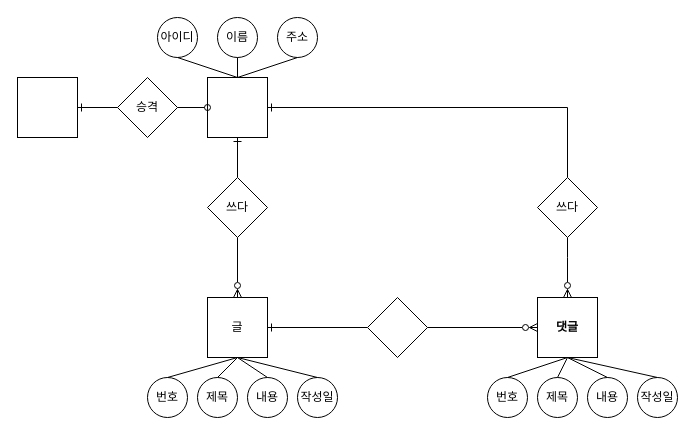
Some shapes in this 695 by 435 pixel diagram are drawn without their labels. The centre of each missing label's shape, as x and y in pixels:
"관리자" goes at (47,107).
"포함" goes at (397,327).
"회원" goes at (237,107).
